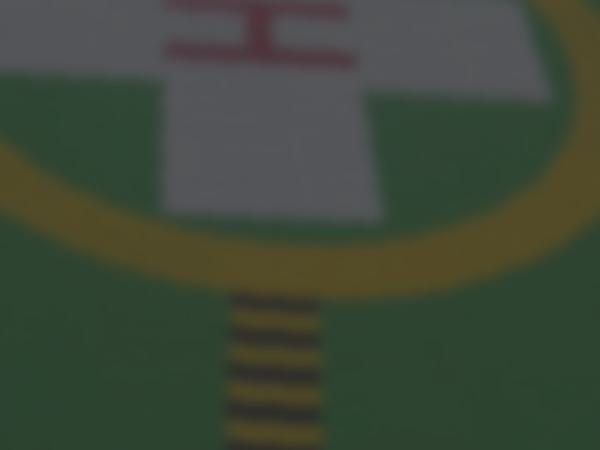Apron: (1, 1, 587, 299)
